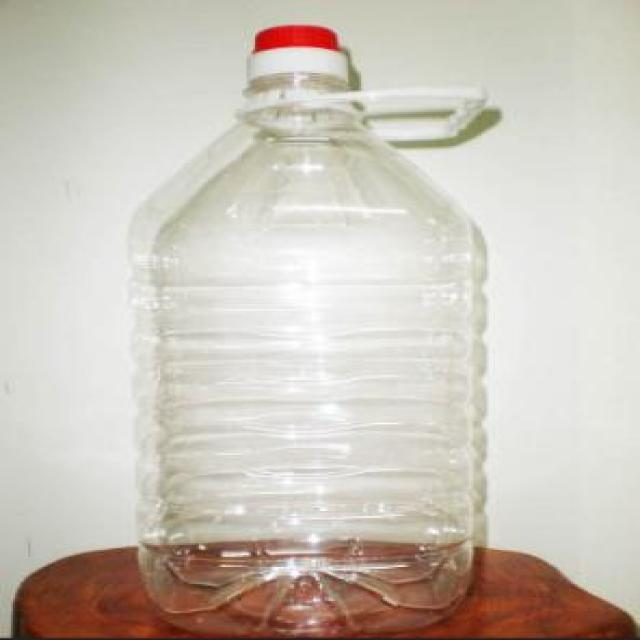-Recyclables - plastic bottle-: (125, 21, 491, 632)
